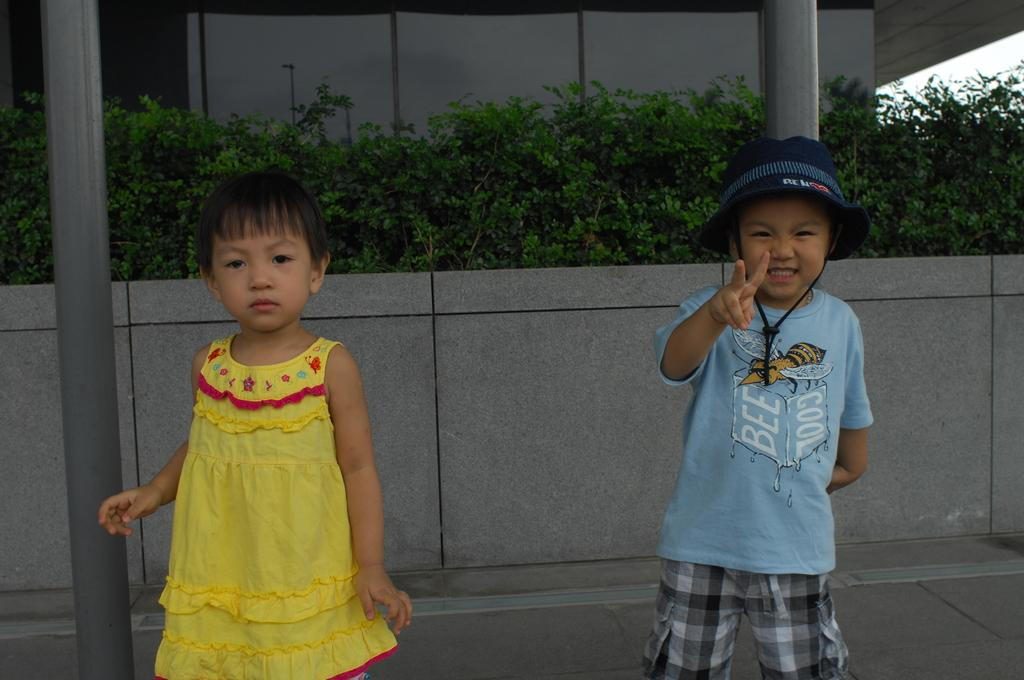Hat: (692, 133, 869, 384)
